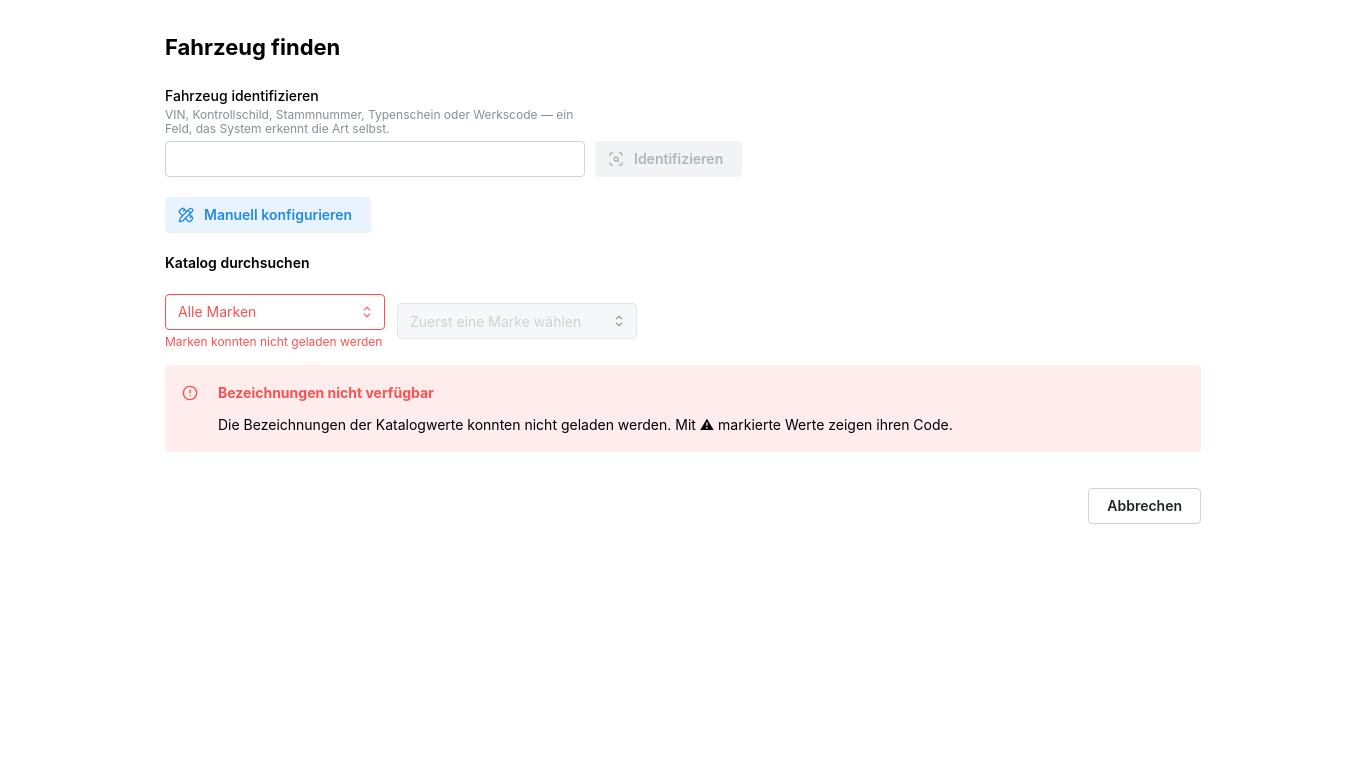
Test: ConfiguratorOverlay — coded fields on a manual configuration (KAN-96) › a list that cannot be loaded says so on its field instead of offering nothing
Click the button "Manuell konfigurieren". click: {"x": 268, "y": 215}
box: top-left (165, 197), bottom-right (371, 233)
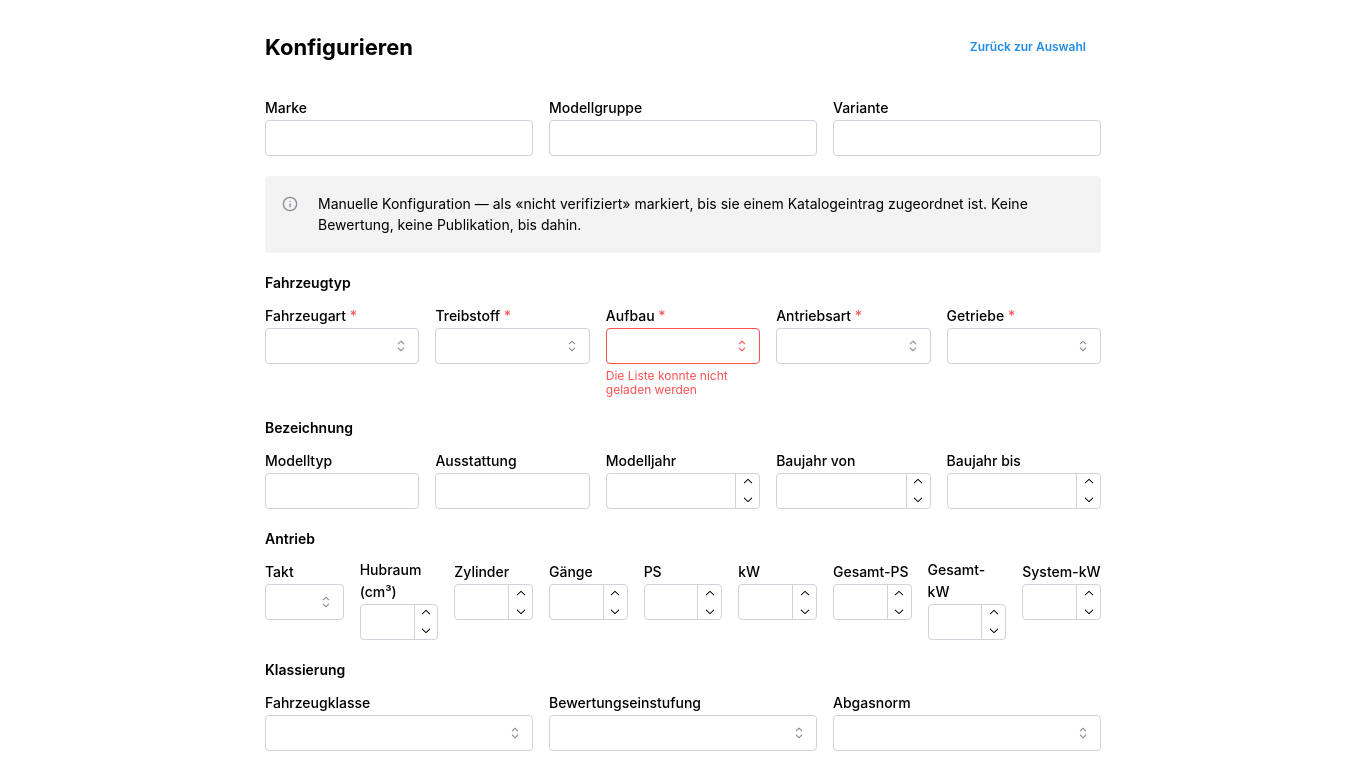
Now the text "Die Liste konnte nicht geladen werden" is shown once, box top-left (606, 368), bottom-right (728, 398)
